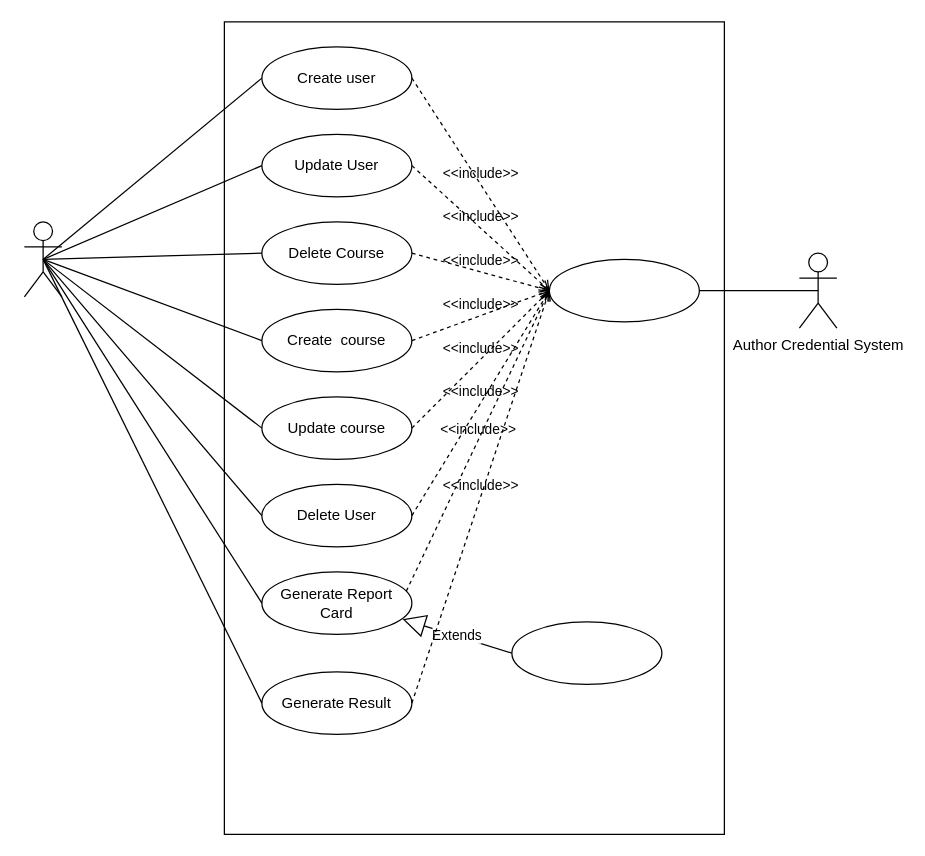
Some shapes in this 925 by 856 pixel diagram are drawn without their labels. The shapes that lost their labels are listed below. From the top down, each one's centre as x and y in pixels, then its label:
[42,259]: Admin
[623,290]: Check Identity
[586,652]: Print Report Card
